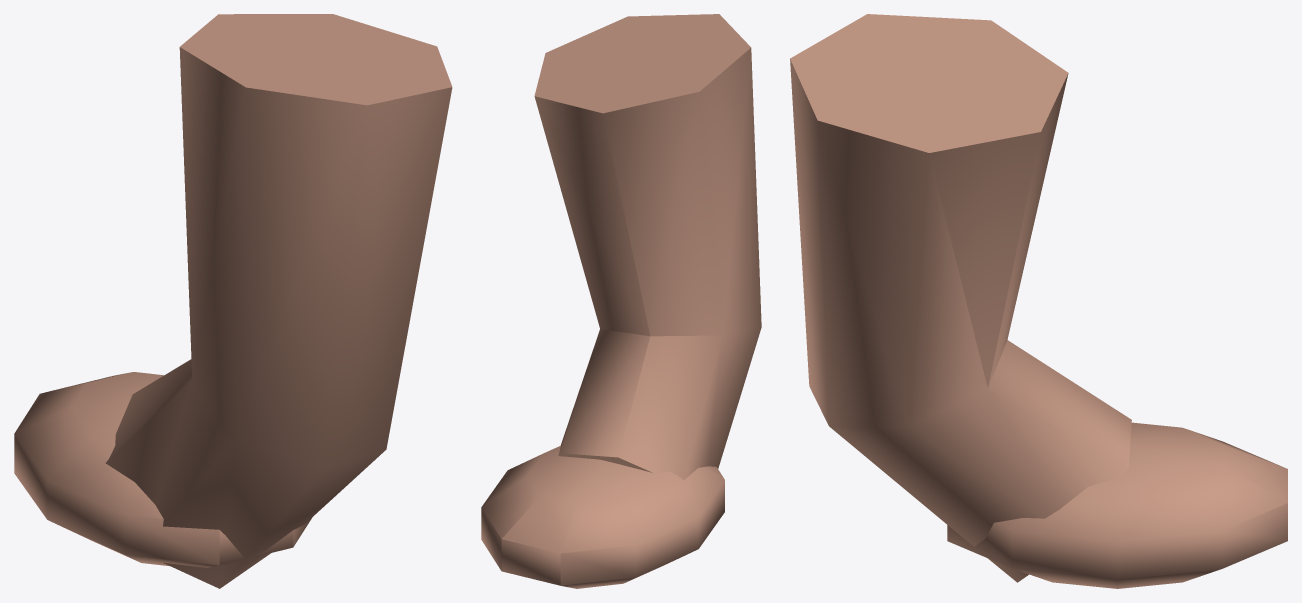
Rendered from gorehulk_b_leg_-1.obj.
3 views of the same model, side by side, from view 1: azimuth 30°, elevation 25°; view 2: azimuth 150°, elevation 25°; view 3: azimuth 270°, elevation 25° (orthographic). The views are drawn at different scales.
Parts seen in each view (by area): view 1: source_component_000, source_component_001; view 2: source_component_000, source_component_001; view 3: source_component_000, source_component_001.
Part boxes in pixels (left/top/right/bottom): source_component_000: left=105, top=14, right=452, bottom=588; source_component_001: left=14, top=372, right=311, bottom=567; source_component_000: left=534, top=14, right=761, bottom=480; source_component_001: left=481, top=445, right=724, bottom=588; source_component_000: left=790, top=14, right=1131, bottom=582; source_component_001: left=947, top=422, right=1287, bottom=588.
Bounding box in the file's own units: 0.3037 × 0.5594 × 0.4759.
